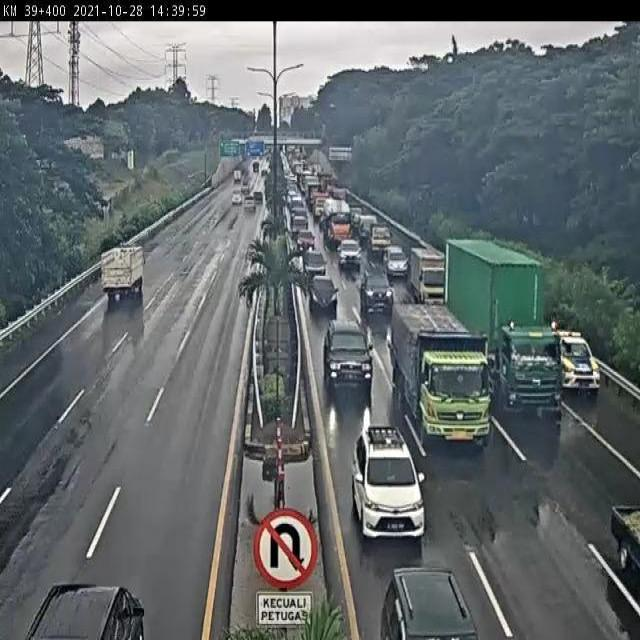car: (350, 427, 425, 539), (324, 316, 373, 388), (554, 327, 602, 391), (359, 263, 395, 309), (378, 241, 408, 275), (308, 275, 337, 309), (337, 237, 363, 268), (368, 220, 393, 252), (302, 248, 324, 275)
truck: (443, 239, 563, 423), (390, 303, 490, 447), (99, 244, 143, 300), (409, 250, 447, 302)
